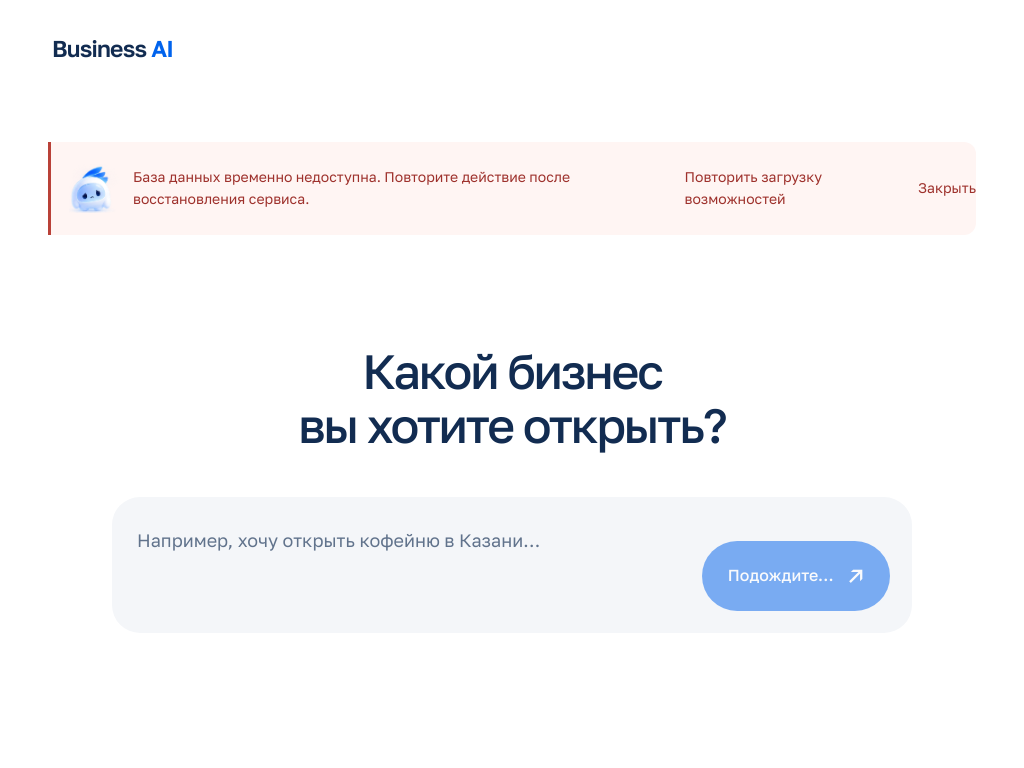
Scenario: critical UI components with explicit API mocks › retries a failed capability catalog without creating a conversation
Check: the text box named "Сообщение помощнику" is disabled, box [134,519,684,611]
Click the button "Повторить загрузку возможностей".
click(787, 188)  # box [684,156,890,221]
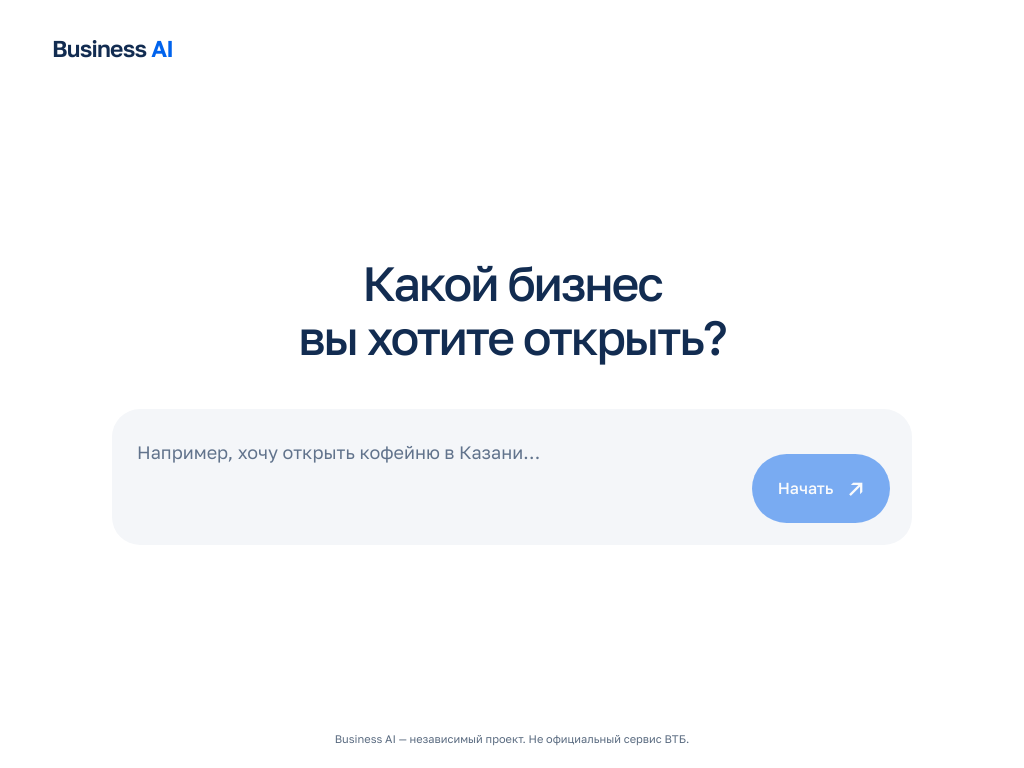
Check: the text box named "Сообщение помощнику" is enabled, box [134,431,734,523]
